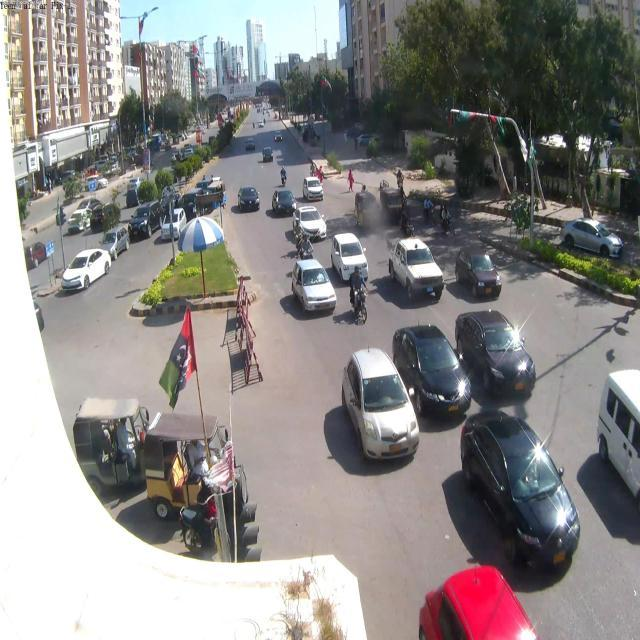car: (340, 347, 420, 464), (388, 323, 474, 428), (454, 308, 539, 414), (591, 368, 640, 546), (390, 238, 445, 306), (559, 218, 625, 260), (288, 259, 337, 314), (456, 250, 502, 301), (59, 247, 110, 292), (330, 232, 370, 282), (292, 206, 328, 242), (100, 225, 130, 262), (268, 186, 297, 217), (128, 205, 154, 239), (237, 186, 260, 211), (302, 178, 324, 202)
motorbike: (280, 165, 288, 188)
